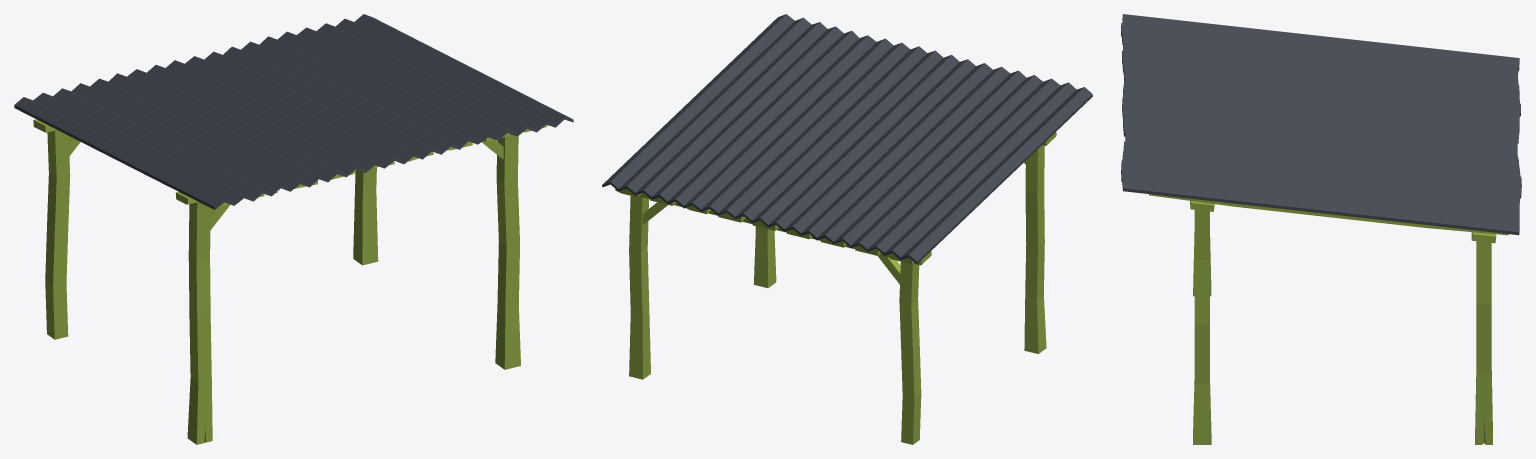
Rendered from Roof_01.fbx.
The picture shows the model from 3 angles, left to right: view 1: azimuth 30°, elevation 25°; view 2: azimuth 150°, elevation 25°; view 3: azimuth 270°, elevation 25°; orthographic projection. The views are drawn at different scales.
Parts seen in each view (by area): view 1: Roof_01; view 2: Roof_01; view 3: Roof_01.
Part boxes in pixels (left/top/right/bottom): Roof_01: left=14, top=14, right=573, bottom=444; Roof_01: left=602, top=14, right=1092, bottom=444; Roof_01: left=1121, top=14, right=1521, bottom=444.
Size of the model in its own units: 3.72 by 2.71 by 3.64.
